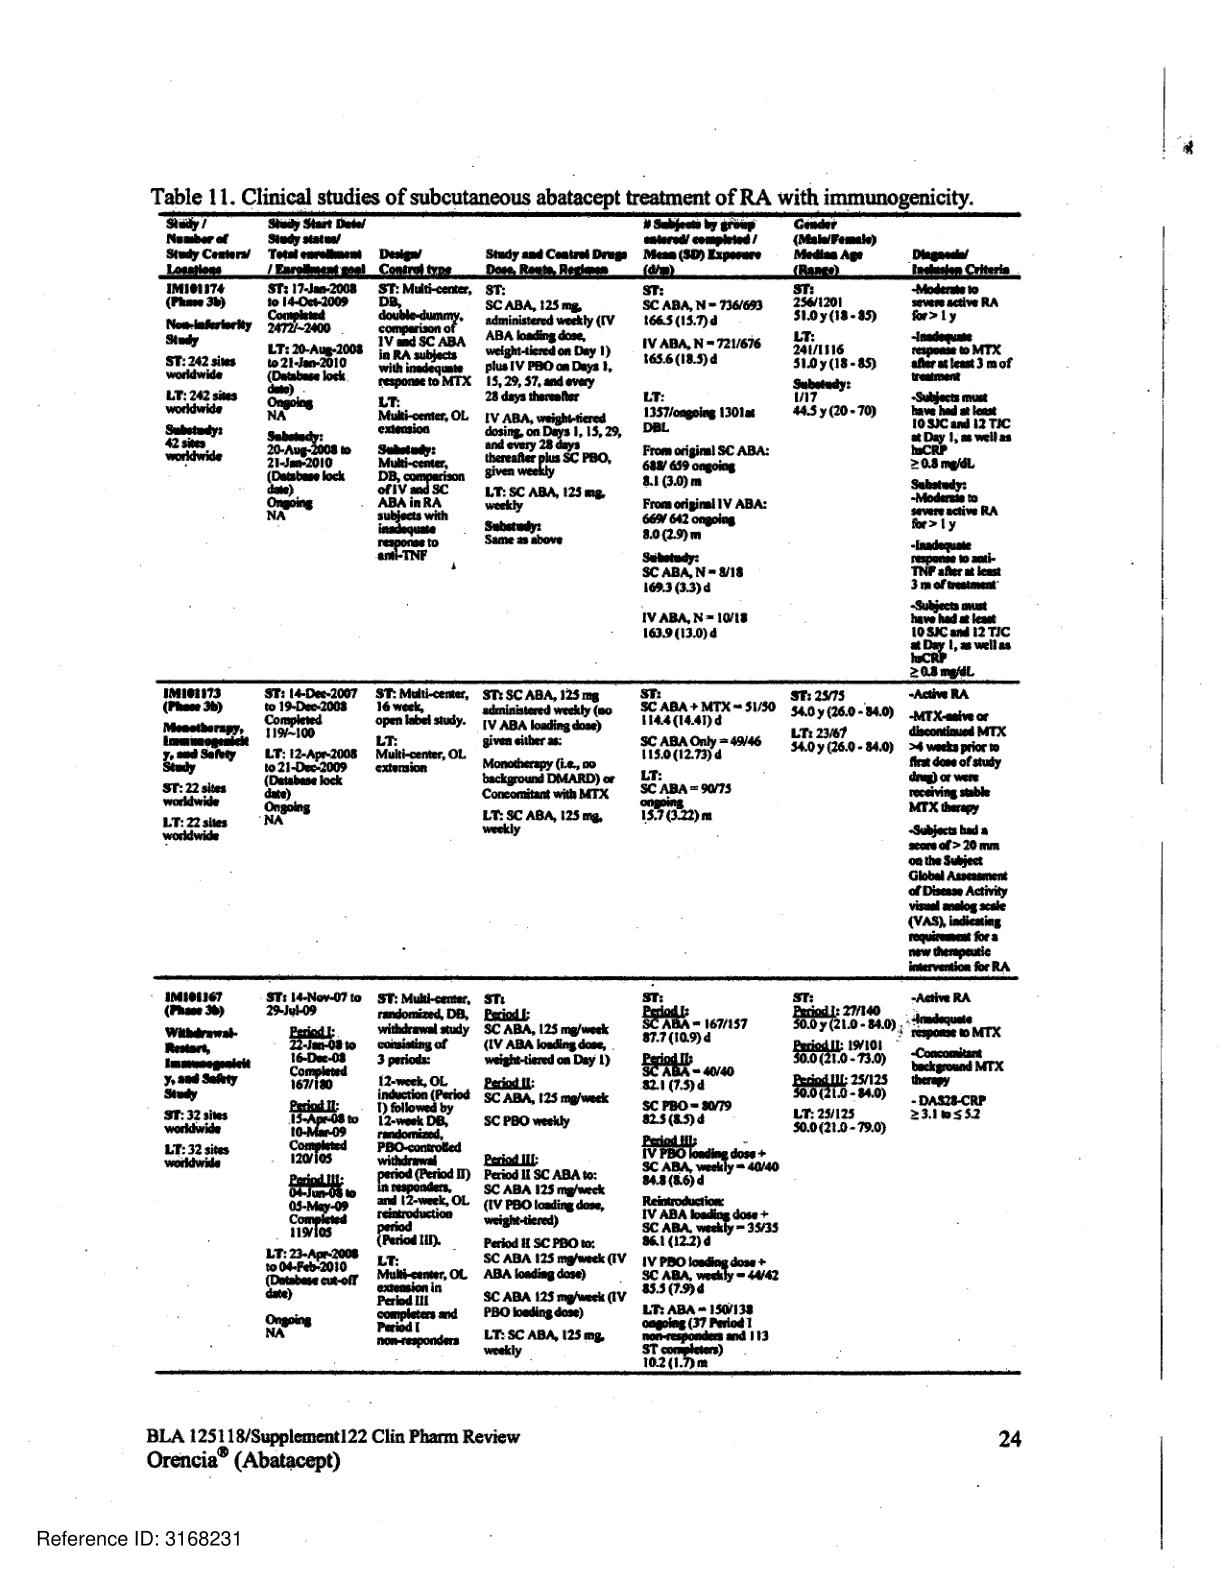partial_lined: (149, 211, 1024, 1377)
